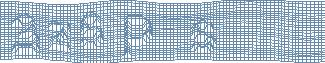3: (10, 12, 41, 55)
P: (121, 13, 154, 59)
s: (189, 19, 217, 55), (79, 13, 105, 49)
z: (47, 19, 72, 53)
